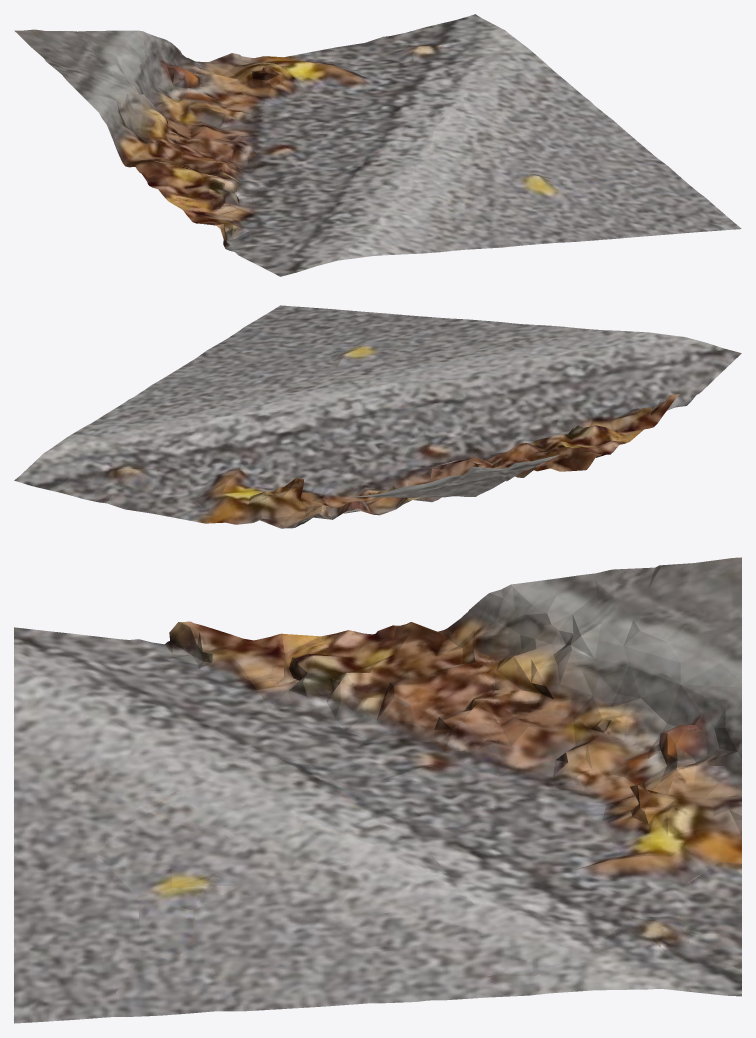
3 views of the same model, one above another, from view 1: azimuth 30°, elevation 25°; view 2: azimuth 150°, elevation 25°; view 3: azimuth 270°, elevation 25° (orthographic). The views are drawn at different scales.
Size of the model in its own units: 0.8373 by 0.201 by 0.8373.
3 materials, 3 textured.
